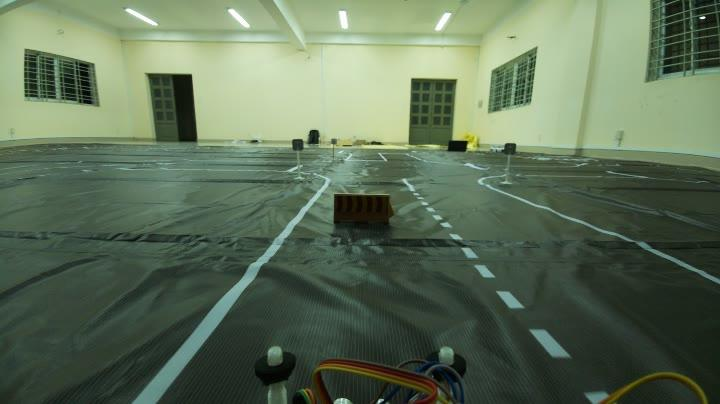roadblock: (325, 188, 402, 237)
